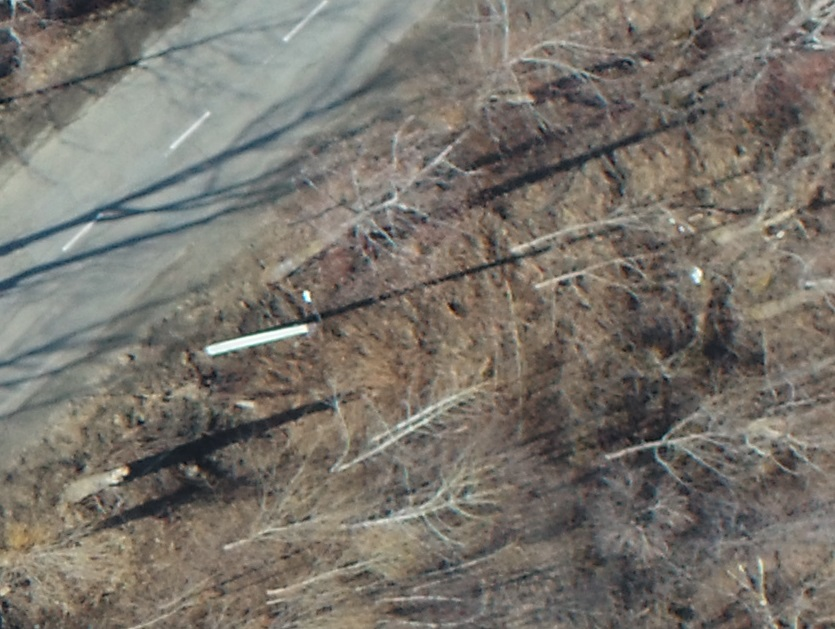opora: (203, 287, 346, 357)
